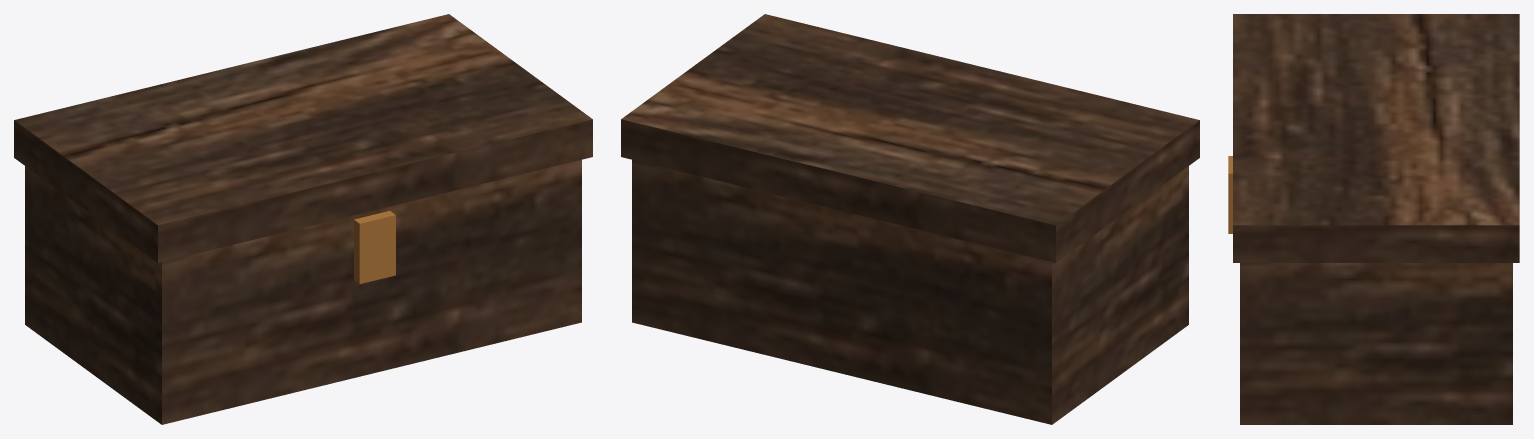
Rendered from chest.glb.
The picture shows the model from 3 angles, left to right: view 1: azimuth 30°, elevation 25°; view 2: azimuth 150°, elevation 25°; view 3: azimuth 270°, elevation 25°; orthographic projection.
Parts seen in each view (by area): view 1: part_0, part_1; view 2: part_0; view 3: part_0, part_1.
Boxes of the visible parts, box(x1,y1,x2,y2) form: part_0: box(14, 14, 592, 424); part_1: box(354, 211, 395, 283); part_0: box(621, 14, 1199, 424); part_0: box(1233, 14, 1519, 424); part_1: box(1228, 156, 1232, 233).
Bounding box in the file's own units: 0.6027 × 0.27 × 0.3511.
2 materials, 1 textured.
